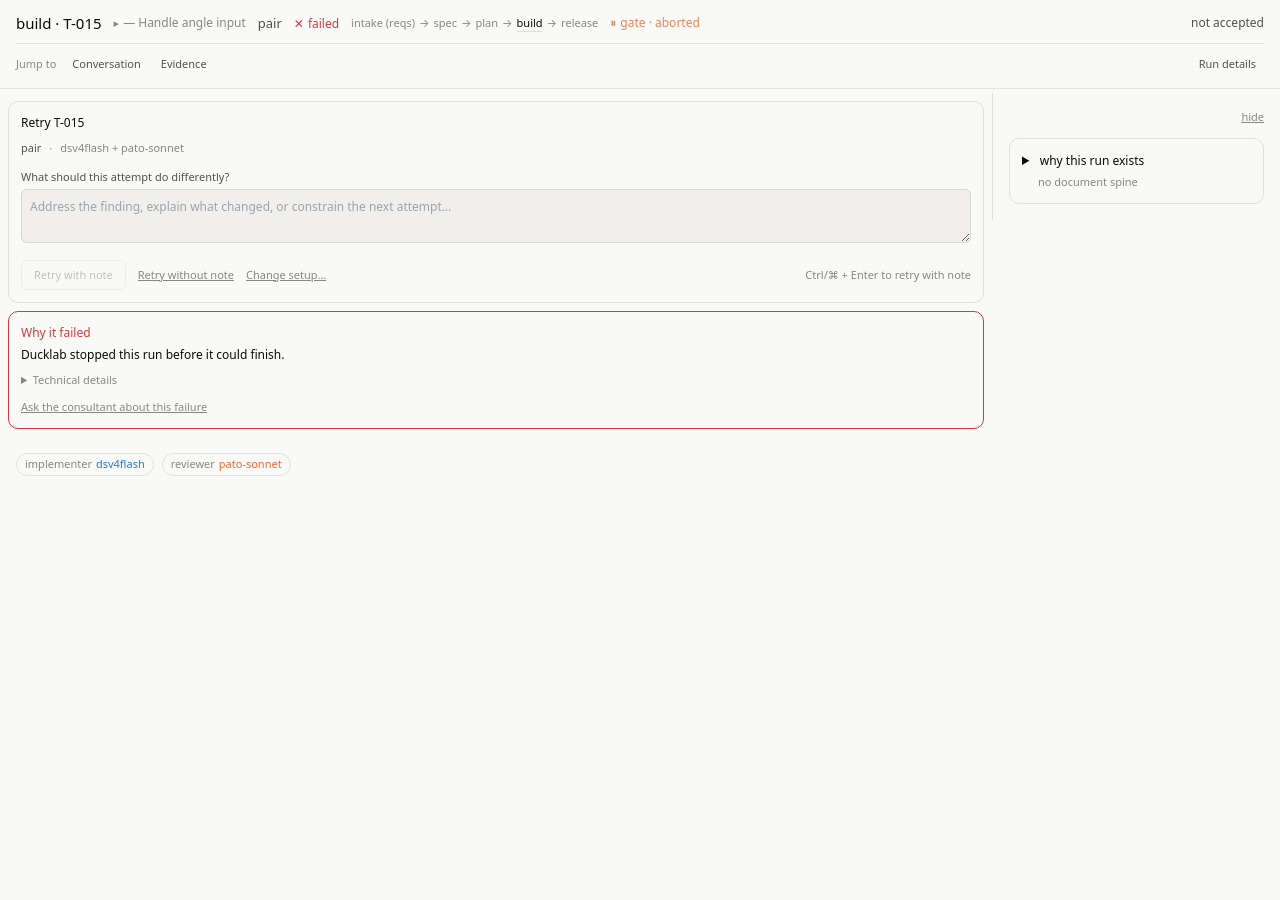
Test: the task's description in the run view › shows the task body beside the run
Click the button with test id "run-task-toggle". click: [180, 23]
box: [114,14,246,32]
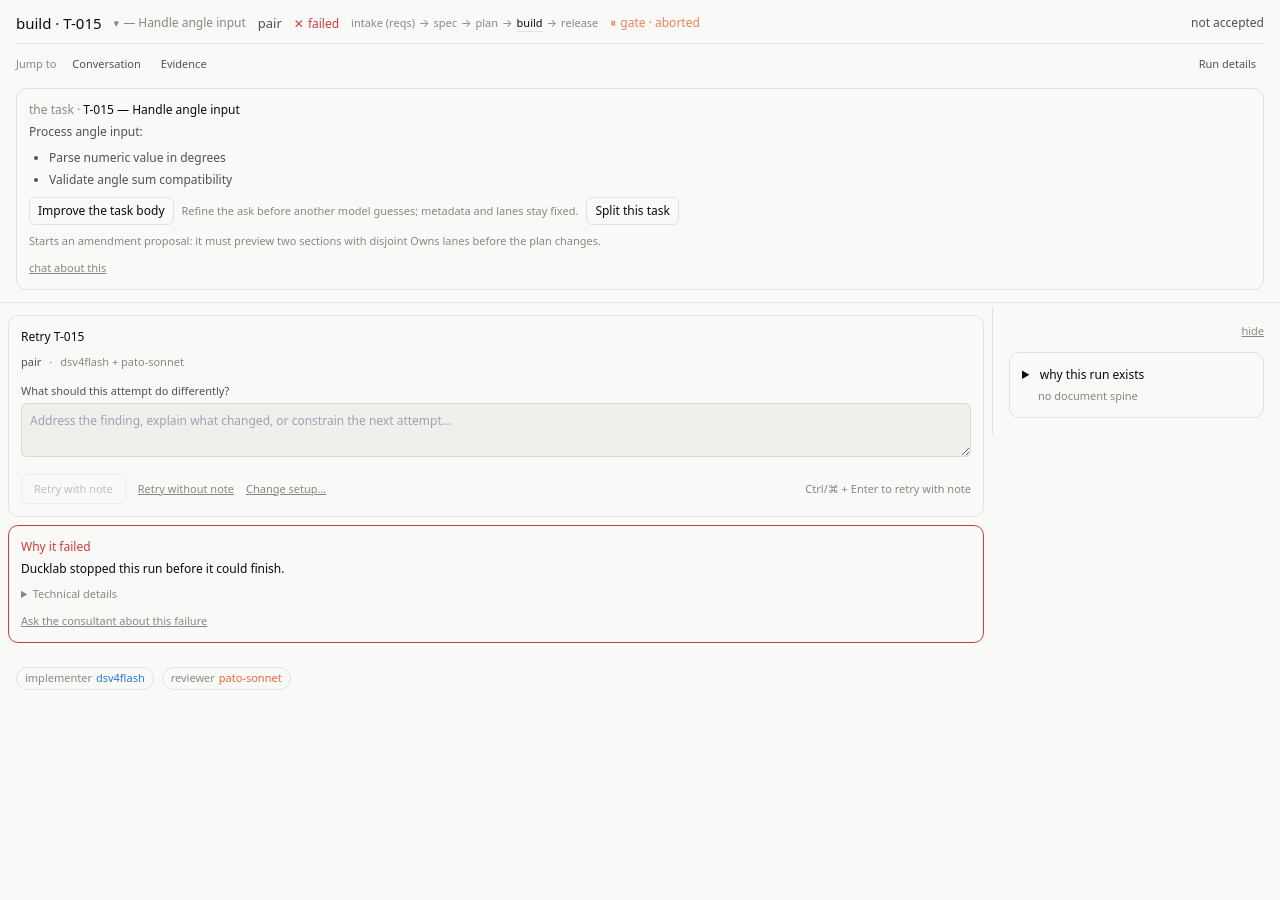
Expected: the element with test id "run-task-card" shows "T-015 — Handle angle input", [16,88,1264,290]
Expected: the element with test id "run-task-card" shows "Parse numeric value in degrees", [49,149,226,166]
